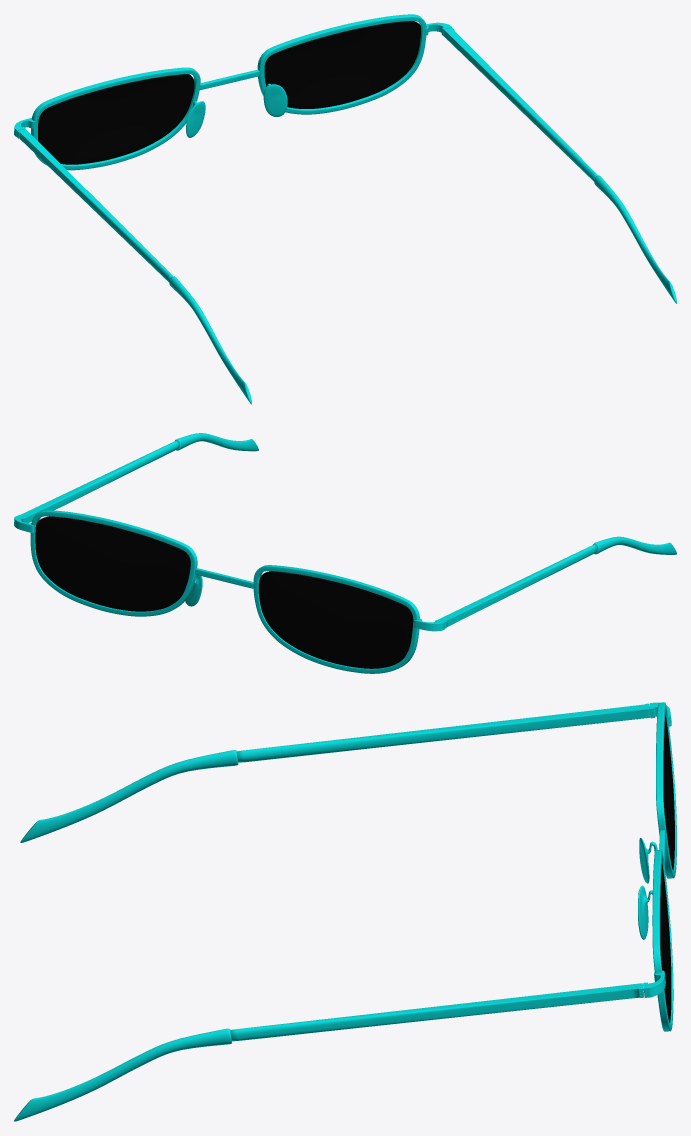
3 views of the same model, one above another, from view 1: azimuth 30°, elevation 25°; view 2: azimuth 150°, elevation 25°; view 3: azimuth 270°, elevation 25° (orthographic). The views are drawn at different scales.
Visible parts, largest first — view 1: _Metal_Frame_Reading_Glasses_V2_Max2011_iterations_2:Object0, _Metal_Frame_Reading_Glasses_V2_Max2011_iterations_2:_Metal_; view 2: _Metal_Frame_Reading_Glasses_V2_Max2011_iterations_2:Object0, _Metal_Frame_Reading_Glasses_V2_Max2011_iterations_2:_Metal_; view 3: _Metal_Frame_Reading_Glasses_V2_Max2011_iterations_2:_Metal_, _Metal_Frame_Reading_Glasses_V2_Max2011_iterations_2:Object0.
Boxes of the visible parts, <box> form: _Metal_Frame_Reading_Glasses_V2_Max2011_iterations_2:Object0: <box>38,21,420,164</box>; _Metal_Frame_Reading_Glasses_V2_Max2011_iterations_2:_Metal_: <box>14,14,676,404</box>; _Metal_Frame_Reading_Glasses_V2_Max2011_iterations_2:Object0: <box>35,516,413,668</box>; _Metal_Frame_Reading_Glasses_V2_Max2011_iterations_2:_Metal_: <box>14,433,676,673</box>; _Metal_Frame_Reading_Glasses_V2_Max2011_iterations_2:_Metal_: <box>14,702,676,1121</box>; _Metal_Frame_Reading_Glasses_V2_Max2011_iterations_2:Object0: <box>660,714,674,1022</box>.
Size of the model in its own units: 13.52 by 3.78 by 13.28.
